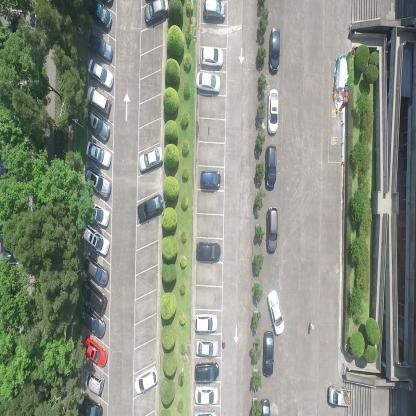car: (80, 278, 108, 316), (79, 304, 106, 340), (136, 191, 164, 224), (82, 252, 109, 286), (266, 288, 285, 336), (82, 223, 110, 255), (83, 166, 111, 198), (85, 109, 111, 142), (86, 59, 114, 89), (86, 32, 114, 62), (82, 334, 108, 366), (84, 139, 112, 168), (85, 86, 111, 116), (138, 143, 164, 172), (133, 365, 159, 394), (87, 0, 113, 29), (82, 366, 106, 397), (195, 239, 222, 264), (268, 24, 281, 74), (144, 0, 170, 25), (264, 144, 278, 190), (266, 88, 279, 136), (328, 382, 352, 408), (87, 201, 110, 228), (266, 204, 278, 254), (196, 71, 221, 94), (195, 361, 220, 384), (262, 331, 274, 377), (80, 392, 103, 416), (194, 385, 219, 407), (201, 46, 225, 68), (194, 313, 218, 335), (200, 168, 222, 191), (196, 338, 219, 359), (202, 0, 226, 20), (193, 405, 217, 415), (258, 397, 270, 415)
